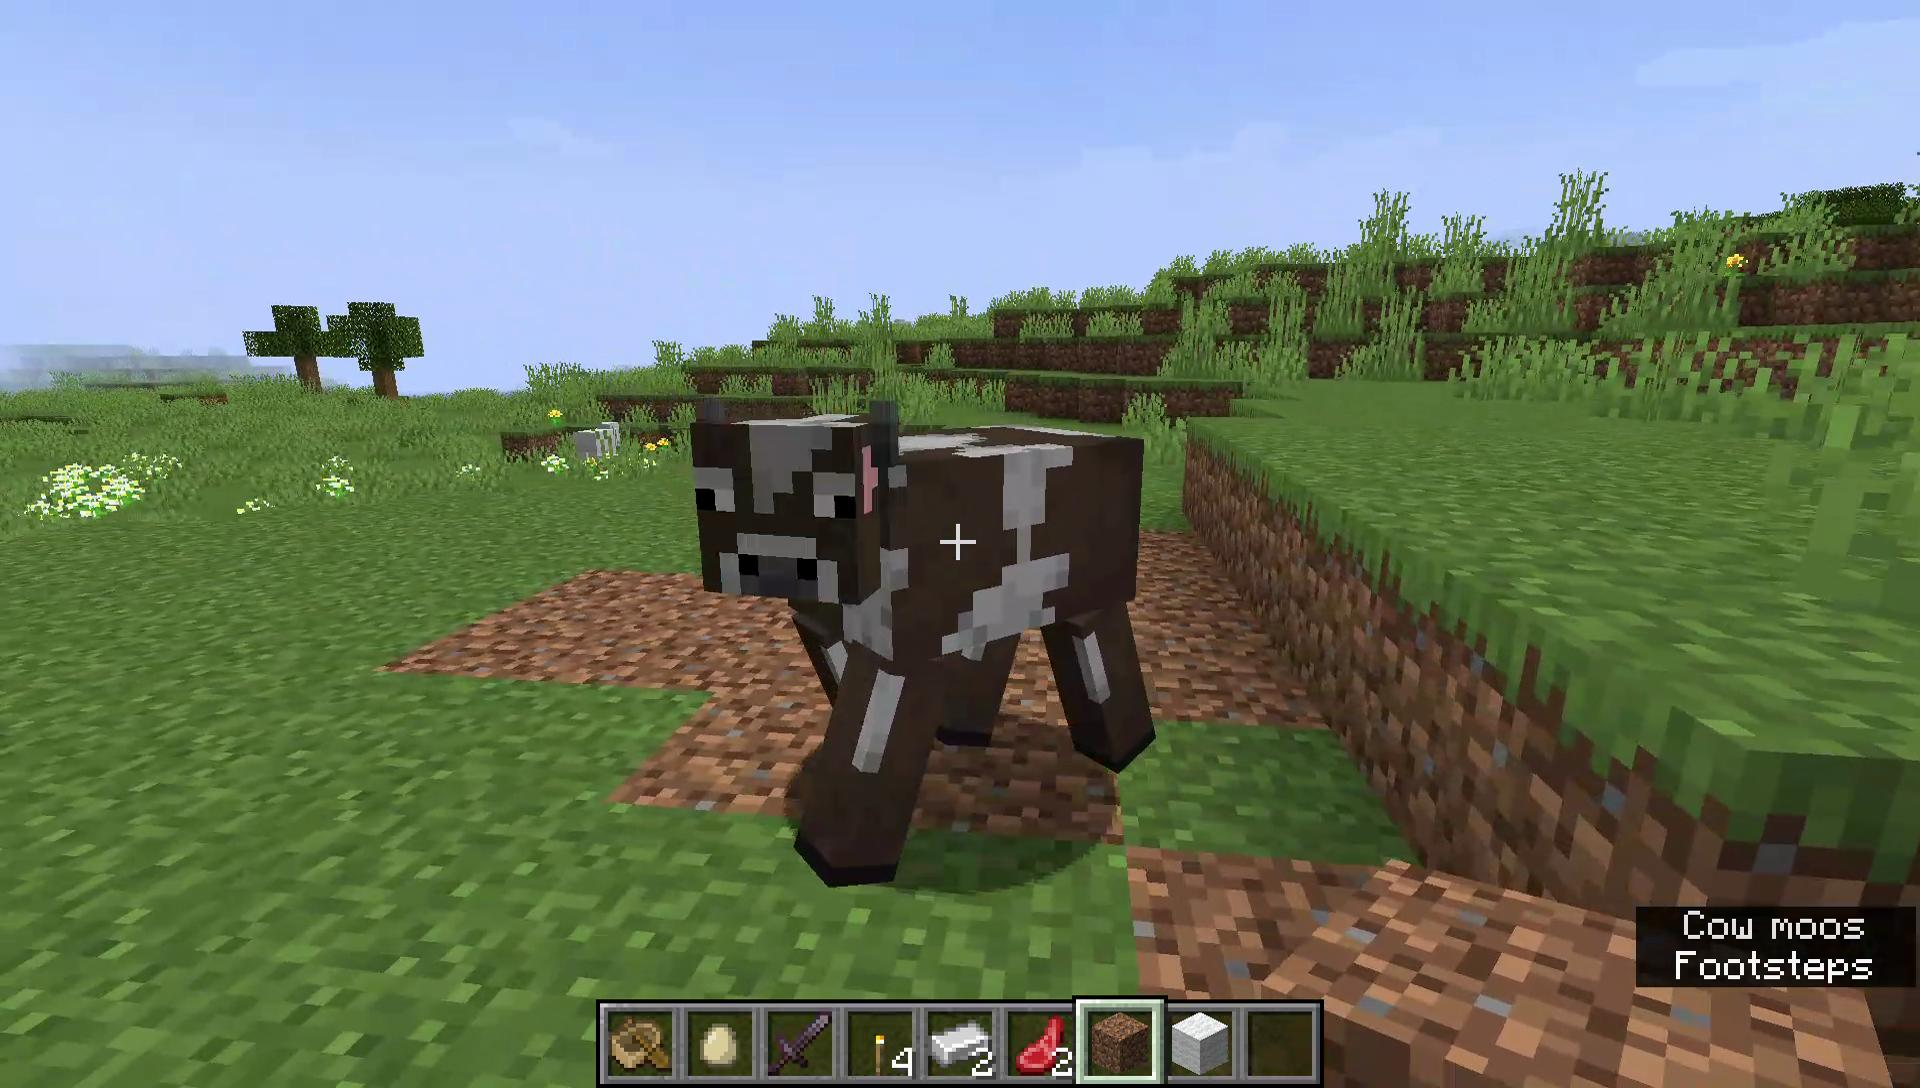cow: (684, 388, 1164, 878)
sheep: (568, 418, 626, 477)
